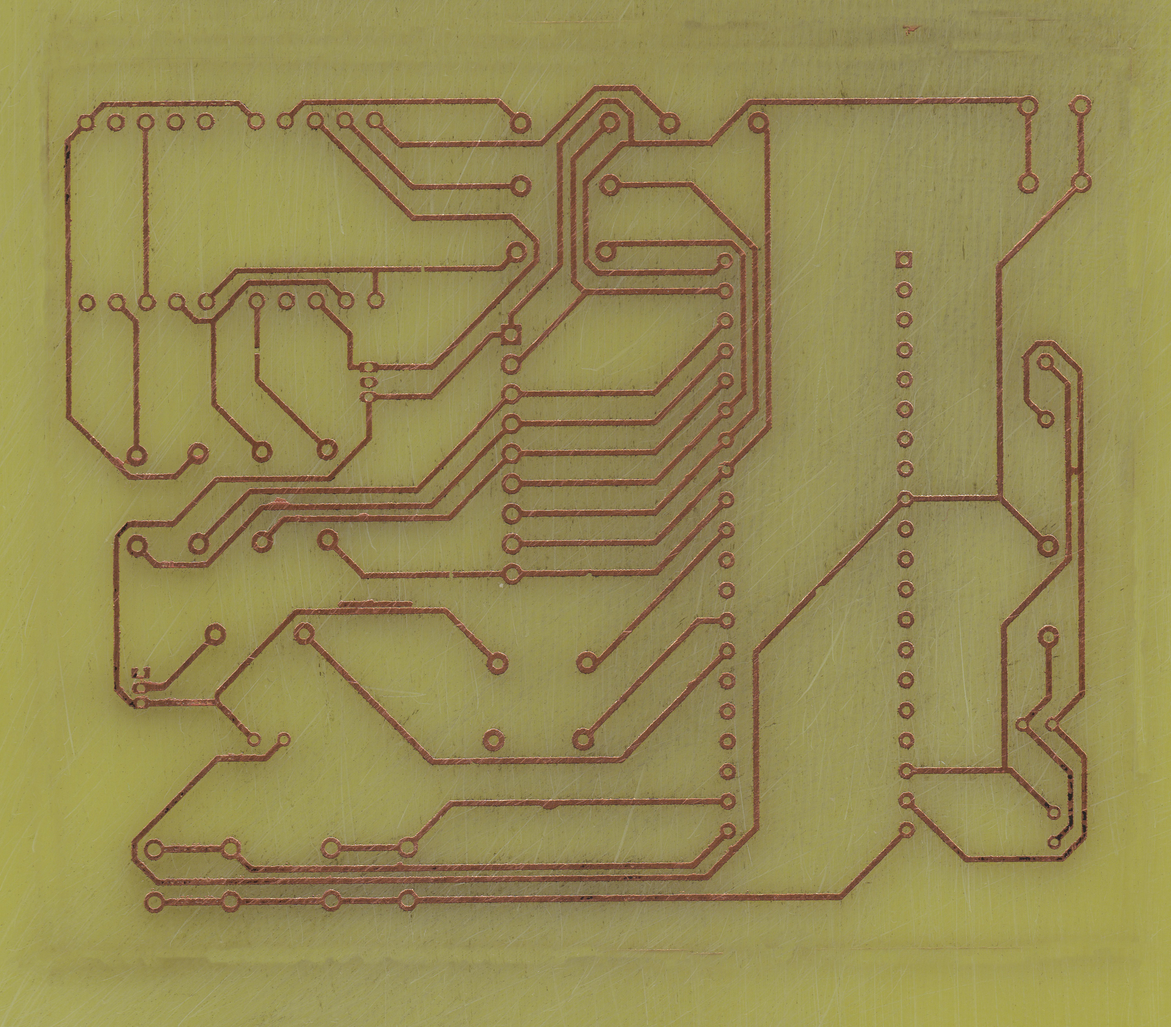missing_hole: (129, 665, 153, 681), (718, 461, 735, 479)
mouse_bite: (811, 578, 826, 602), (584, 571, 594, 577)
open_circuit: (442, 566, 461, 586), (250, 339, 263, 359), (419, 266, 426, 272)
short: (1062, 460, 1086, 483)
spur: (540, 794, 561, 812), (272, 497, 289, 509), (114, 457, 125, 466), (358, 512, 370, 520), (396, 861, 405, 870)
spurious_copper: (333, 597, 418, 610)
